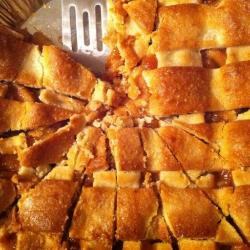apple_pie: (2, 27, 243, 244)
